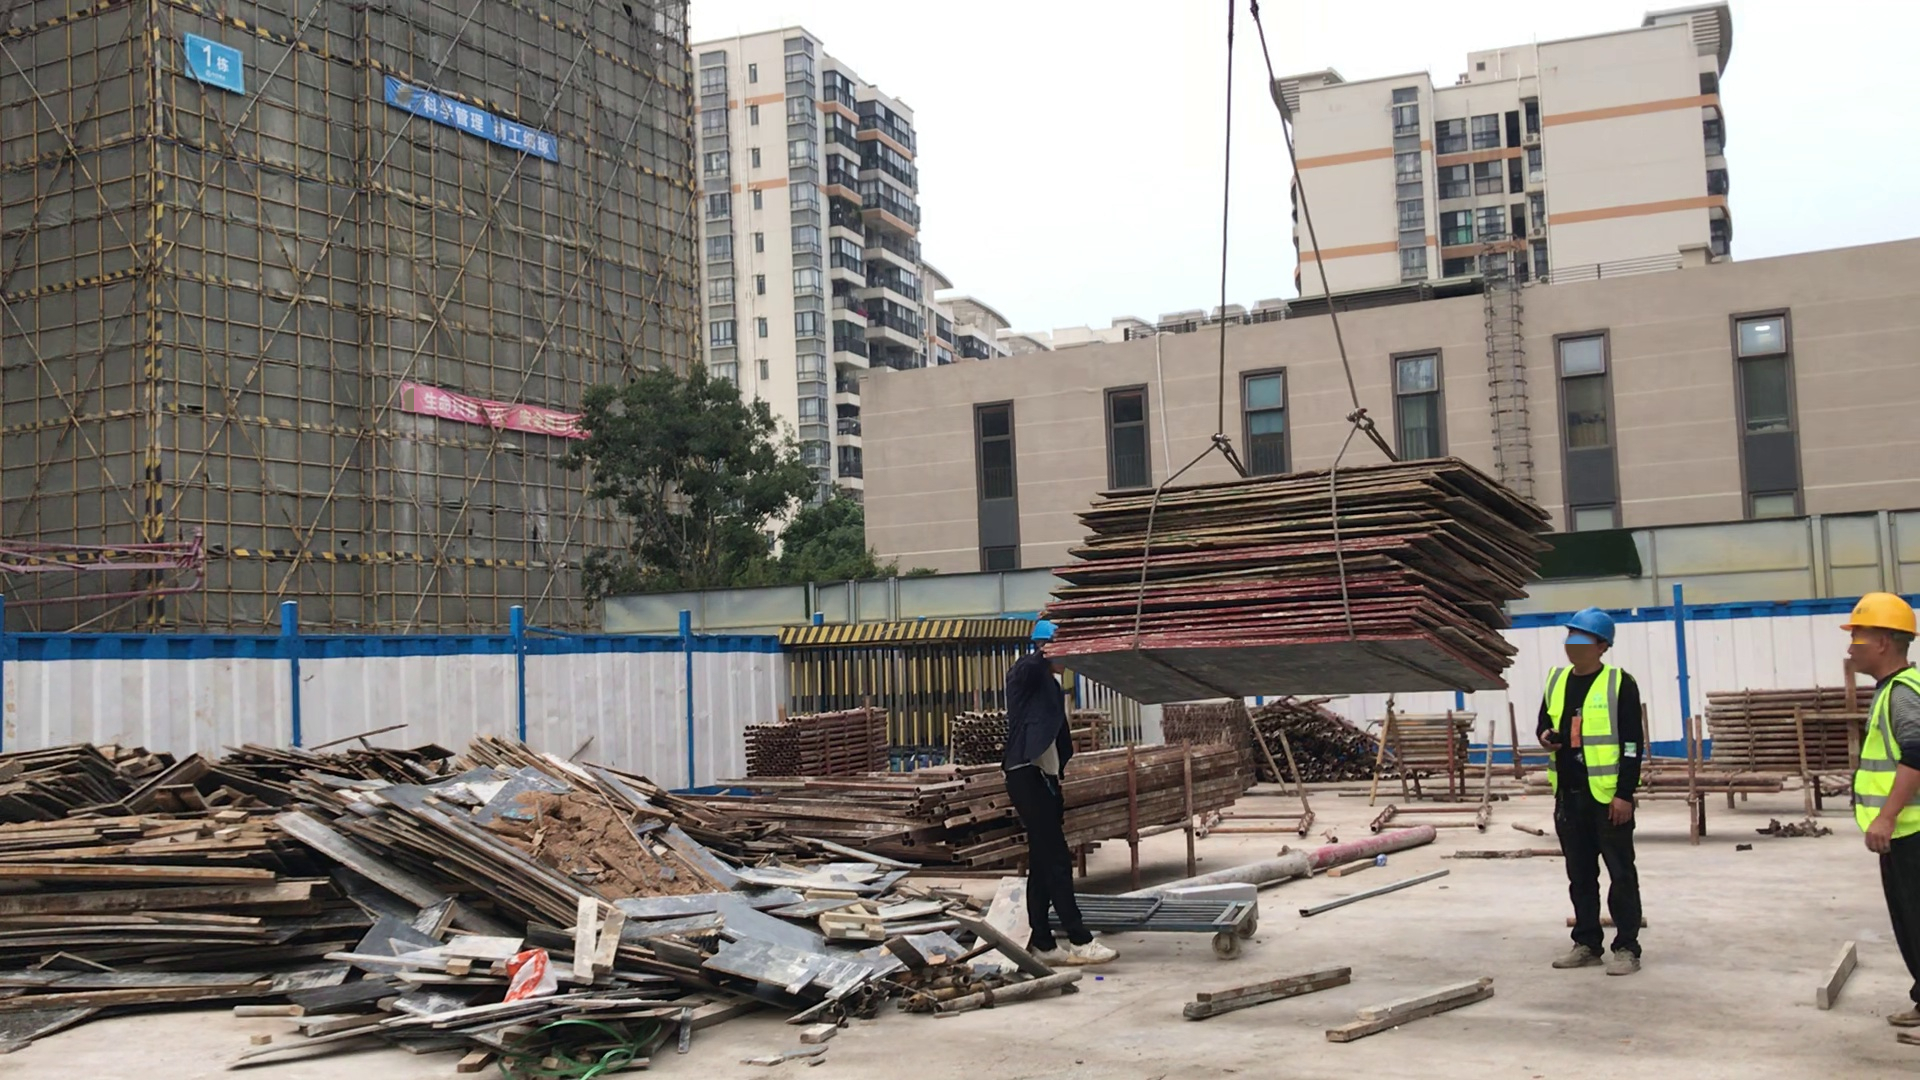board: (1057, 456, 1554, 693)
helmet: (1844, 588, 1915, 637), (1568, 607, 1612, 642), (1030, 619, 1058, 640)
person: (1537, 606, 1651, 982), (1000, 617, 1111, 968), (1834, 587, 1920, 1039)
scaffold: (1711, 687, 1851, 774), (747, 704, 899, 778), (1377, 715, 1466, 770), (1165, 707, 1240, 772), (950, 711, 1007, 765)
slogan: (420, 84, 555, 157), (421, 380, 585, 438)
vest: (1857, 669, 1920, 845), (1549, 662, 1618, 798)
